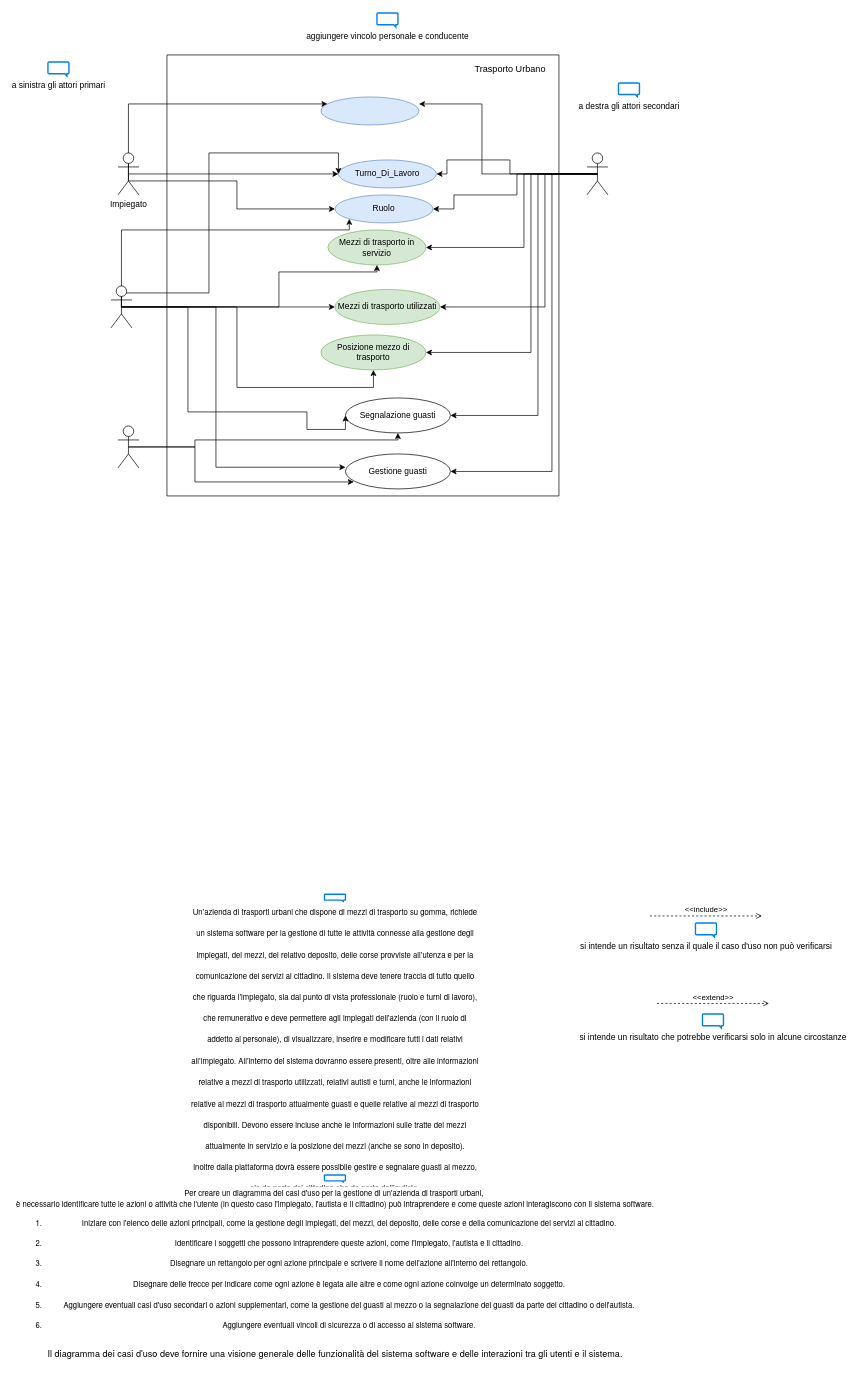
The diagram is 859 pixels wide and 1383 high, and some of its shapes have lost their labels. The centre of each missing label's shape, as x and y in pixels:
Autista: the point at 121,306
Cittadino: the point at 128,446
Remunerazione: the point at 369,110
Sistema Software: the point at 597,173
